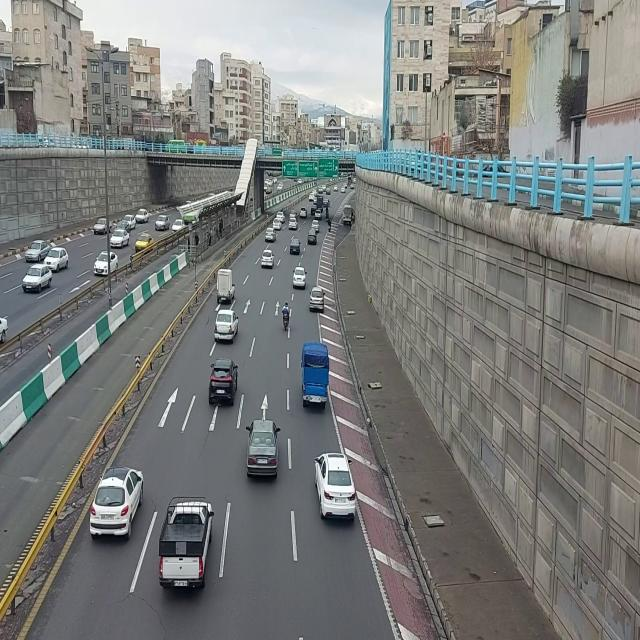Car: (89, 465, 145, 541), (313, 452, 357, 522), (243, 418, 283, 482), (208, 357, 240, 409), (214, 306, 240, 344), (22, 263, 53, 292), (93, 249, 119, 277), (43, 245, 69, 273), (24, 239, 50, 263), (310, 286, 326, 312), (110, 228, 130, 248), (135, 233, 154, 253), (292, 265, 306, 289), (93, 218, 113, 234), (261, 248, 275, 269), (155, 214, 171, 232), (114, 220, 132, 236), (171, 218, 185, 234), (135, 208, 149, 224), (289, 238, 301, 256), (265, 227, 277, 243), (124, 214, 136, 230), (308, 229, 319, 245), (273, 218, 283, 232), (276, 211, 286, 223), (289, 218, 299, 230), (311, 219, 319, 231), (300, 207, 308, 217), (314, 209, 322, 219), (323, 197, 331, 207), (289, 210, 298, 218), (311, 204, 317, 216), (309, 192, 315, 202), (325, 188, 332, 196), (334, 184, 339, 193), (318, 187, 323, 195), (341, 185, 346, 193)
Motorcycle: (282, 301, 291, 334), (328, 219, 333, 234), (326, 206, 330, 221)
Pickup: (158, 493, 214, 593), (301, 341, 330, 411), (217, 269, 236, 305), (316, 195, 324, 211)
